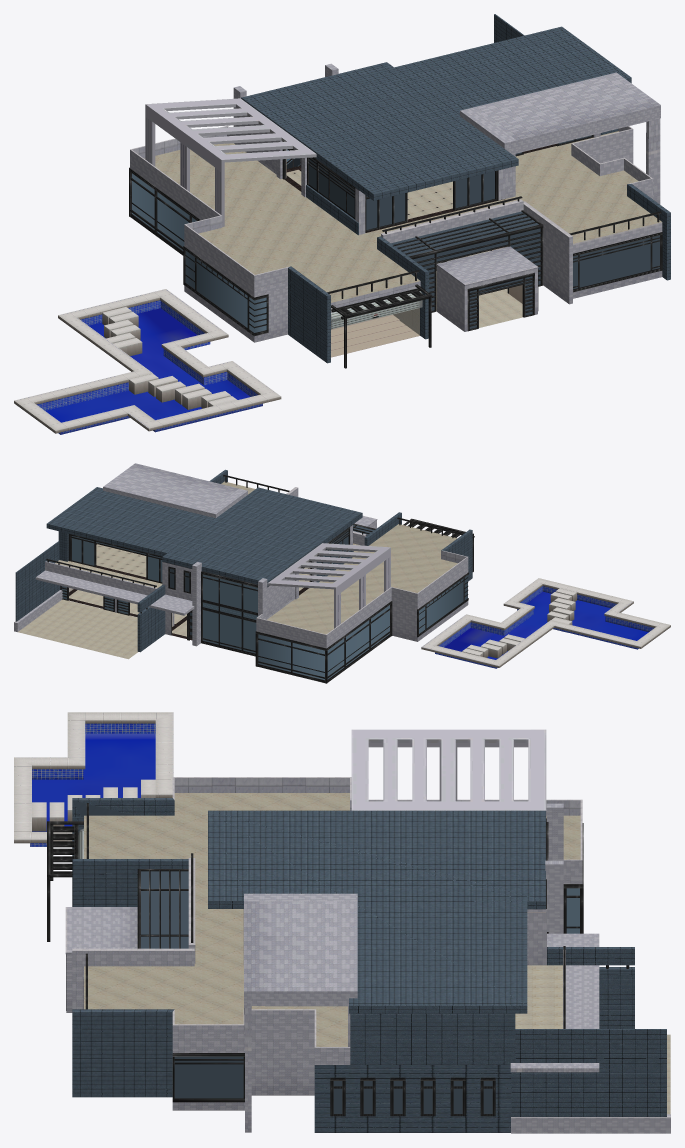
File: house_0130002.FBX
3 views of the same model, one above another, from view 1: azimuth 30°, elevation 25°; view 2: azimuth 150°, elevation 25°; view 3: azimuth 270°, elevation 25° (orthographic). The views are drawn at different scales.
Parts seen in each view (by area): view 1: house_0130002_roof_201_00, house_0130002_floor_202_00, house_0130002_floor_100_02, house_0130002_roof_202_00, house_0130002_floor_104_00, house_0130002_floor_103_00, house_0130002_floor_201_00, house_0130002_tcx_202_00, house_0130002_floor_200_00, house_0130002_floor_105_00, house_0130002_floor_102_00, house_0130002_outwall_100_17 (+9 smaller); view 2: house_0130002_roof_201_00, house_0130002_floor_100_02, house_0130002_floor_202_00, house_0130002_floor_102_00, house_0130002_floor_100_00, house_0130002_roof_202_00, house_0130002_floor_101_00, house_0130002_floor_200_00, house_0130002_floor_203_00, house_0130002_outwall_200_04, house_0130002_floor_103_00, house_0130002_tcx_205_00 (+12 smaller); view 3: house_0130002_roof_201_00, house_0130002_floor_202_00, house_0130002_outwall_100_11, house_0130002_floor_100_02, house_0130002_roof_202_00, house_0130002_floor_200_00, house_0130002_outwall_200_00, house_0130002_tcx_202_00, house_0130002_outwall_100_05, house_0130002_tcx_200_07, house_0130002_floor_104_00, house_0130002_floor_101_00 (+19 smaller).
Boxes of the visible parts, bbox=[...] form: house_0130002_roof_201_00: bbox=[241, 26, 660, 194]; house_0130002_floor_202_00: bbox=[144, 131, 661, 302]; house_0130002_floor_100_02: bbox=[14, 289, 281, 434]; house_0130002_roof_202_00: bbox=[145, 98, 660, 226]; house_0130002_floor_104_00: bbox=[391, 210, 543, 331]; house_0130002_floor_103_00: bbox=[183, 246, 432, 368]; house_0130002_floor_201_00: bbox=[284, 157, 502, 232]; house_0130002_tcx_202_00: bbox=[132, 126, 666, 298]; house_0130002_floor_200_00: bbox=[130, 42, 670, 315]; house_0130002_floor_105_00: bbox=[573, 232, 662, 292]; house_0130002_floor_102_00: bbox=[129, 167, 200, 255]; house_0130002_outwall_100_17: bbox=[288, 287, 327, 359]; house_0130002_roof_201_00: bbox=[47, 463, 361, 584]; house_0130002_floor_100_02: bbox=[421, 578, 670, 668]; house_0130002_floor_202_00: bbox=[221, 481, 457, 634]; house_0130002_floor_102_00: bbox=[255, 601, 392, 683]; house_0130002_floor_100_00: bbox=[14, 590, 137, 659]; house_0130002_roof_202_00: bbox=[267, 513, 390, 628]; house_0130002_floor_101_00: bbox=[60, 585, 256, 656]; house_0130002_floor_200_00: bbox=[15, 480, 472, 648]; house_0130002_floor_203_00: bbox=[68, 534, 190, 593]; house_0130002_outwall_200_04: bbox=[162, 562, 266, 617]; house_0130002_floor_103_00: bbox=[403, 518, 474, 637]; house_0130002_tcx_205_00: bbox=[15, 553, 156, 595]; house_0130002_roof_201_00: bbox=[208, 810, 545, 1013]; house_0130002_floor_202_00: bbox=[84, 793, 580, 1046]; house_0130002_outwall_100_11: bbox=[314, 1072, 666, 1128]; house_0130002_floor_100_02: bbox=[14, 712, 173, 846]; house_0130002_roof_202_00: bbox=[208, 729, 546, 1047]; house_0130002_floor_200_00: bbox=[65, 817, 666, 1072]; house_0130002_outwall_200_00: bbox=[350, 1013, 666, 1050]; house_0130002_tcx_202_00: bbox=[72, 778, 580, 1009]; house_0130002_outwall_100_05: bbox=[72, 1037, 172, 1093]; house_0130002_tcx_200_07: bbox=[350, 1050, 666, 1064]; house_0130002_floor_104_00: bbox=[66, 869, 188, 1010]; house_0130002_floor_101_00: bbox=[330, 1077, 495, 1116].
Bounding box in the file's own units: 4562 × 849 × 2963.
Materials: 186 (184 with a texture image).
